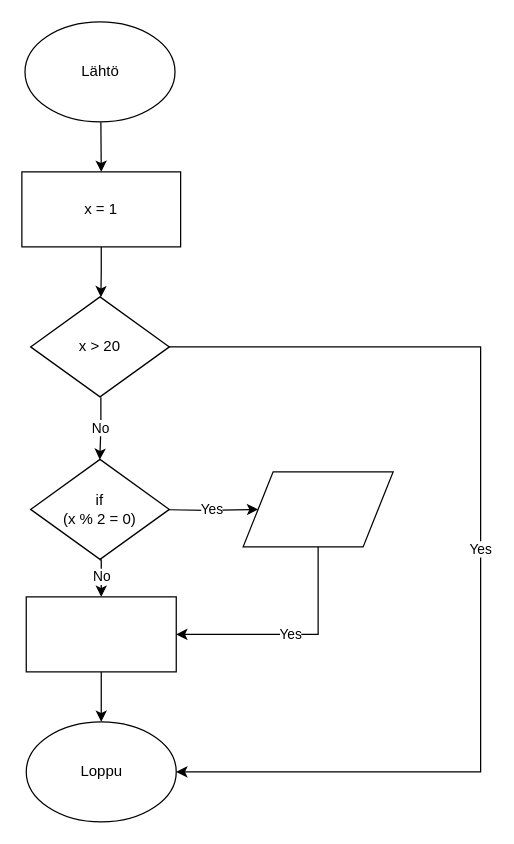
Some shapes in this 514 by 844 pixel diagram are drawn without their labels. Here are the shapes that lost their labels. From the top down, the centre of each, then its label:
pixel 317 509: Print x
pixel 100 634: x = x + 1
